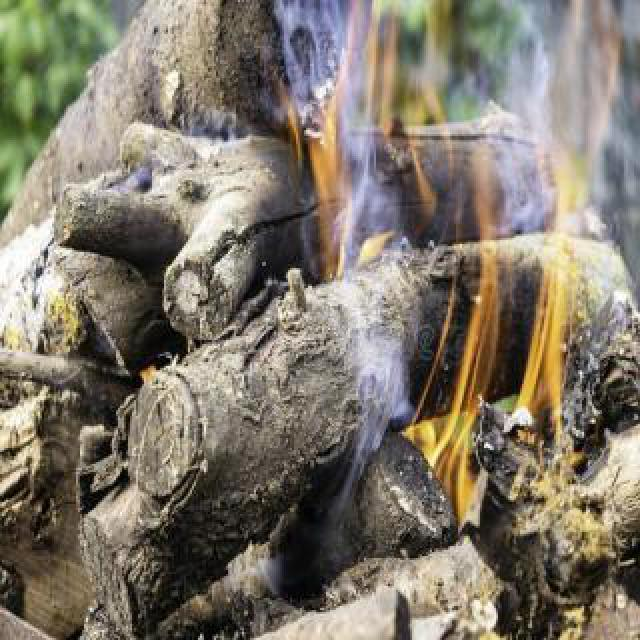Fire: (428, 154, 604, 532)
